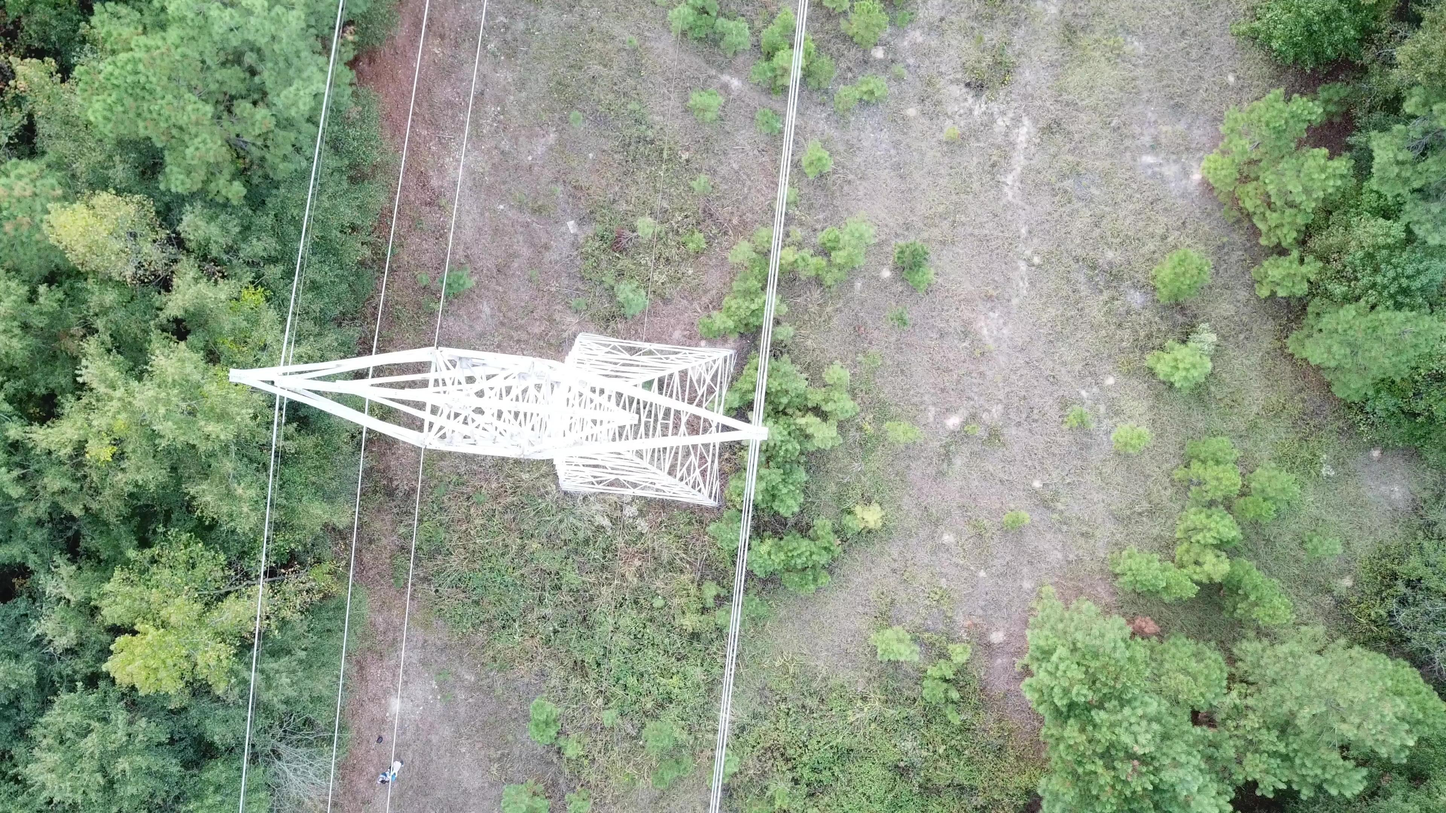power_tower: (227, 331, 769, 508)
